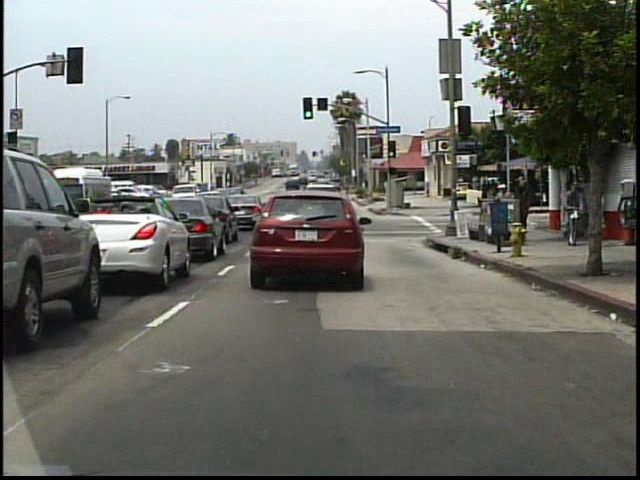person: (515, 176, 534, 239), (496, 180, 516, 234), (568, 182, 587, 235), (594, 187, 608, 243), (579, 183, 580, 238)
